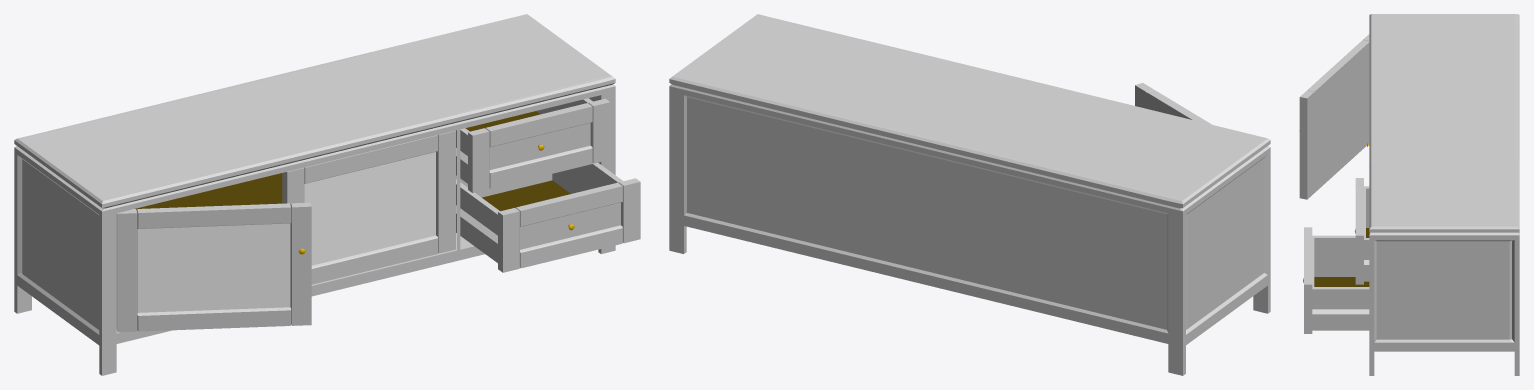
The picture shows the model from 3 angles, left to right: view 1: azimuth 30°, elevation 25°; view 2: azimuth 150°, elevation 25°; view 3: azimuth 270°, elevation 25°; orthographic projection. The views are drawn at different scales.
Visible parts, largest first — view 1: rack, doorLeft, doorRight, drawerDown, drawerUp, shelf; view 2: rack, doorLeft; view 3: rack, doorLeft, drawerDown, drawerUp.
Part boxes in pixels (box(x1,y1,x2,y2)): rack: box(14, 14, 615, 375); doorLeft: box(116, 202, 311, 332); doorRight: box(282, 130, 455, 284); drawerDown: box(456, 162, 640, 272); drawerUp: box(456, 98, 610, 192); shelf: box(135, 173, 282, 209); rack: box(669, 14, 1270, 375); doorLeft: box(1135, 83, 1211, 124); rack: box(1369, 14, 1519, 375); doorLeft: box(1299, 34, 1369, 199); drawerDown: box(1303, 227, 1369, 333); drawerUp: box(1354, 178, 1369, 284).
Bounding box in the file's own units: 15.2 × 4.91 × 6.6.
